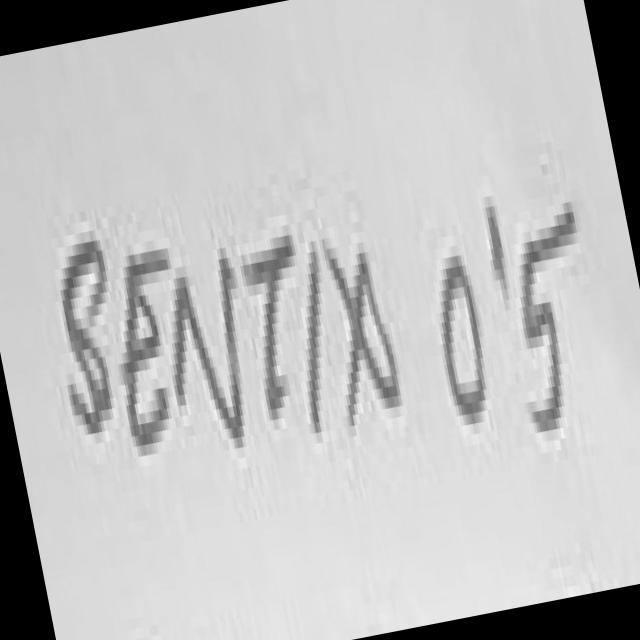0: (445, 256, 487, 424)
5: (524, 202, 577, 432)
E: (125, 249, 171, 446)
I: (309, 251, 322, 428)
N: (175, 258, 244, 448)
S: (63, 241, 111, 434)
T: (244, 235, 294, 420)
X: (327, 248, 400, 426)
